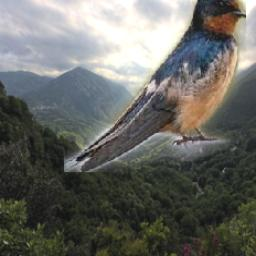Swallow: (65, 0, 247, 172)
